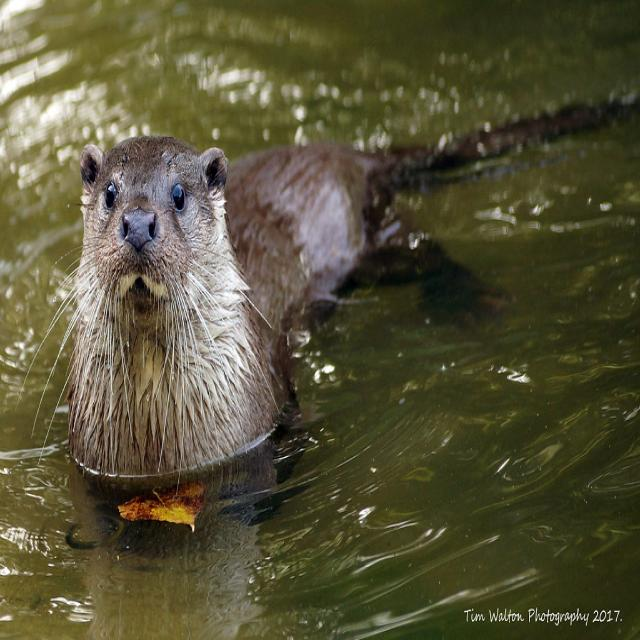otter: (70, 135, 284, 477)
